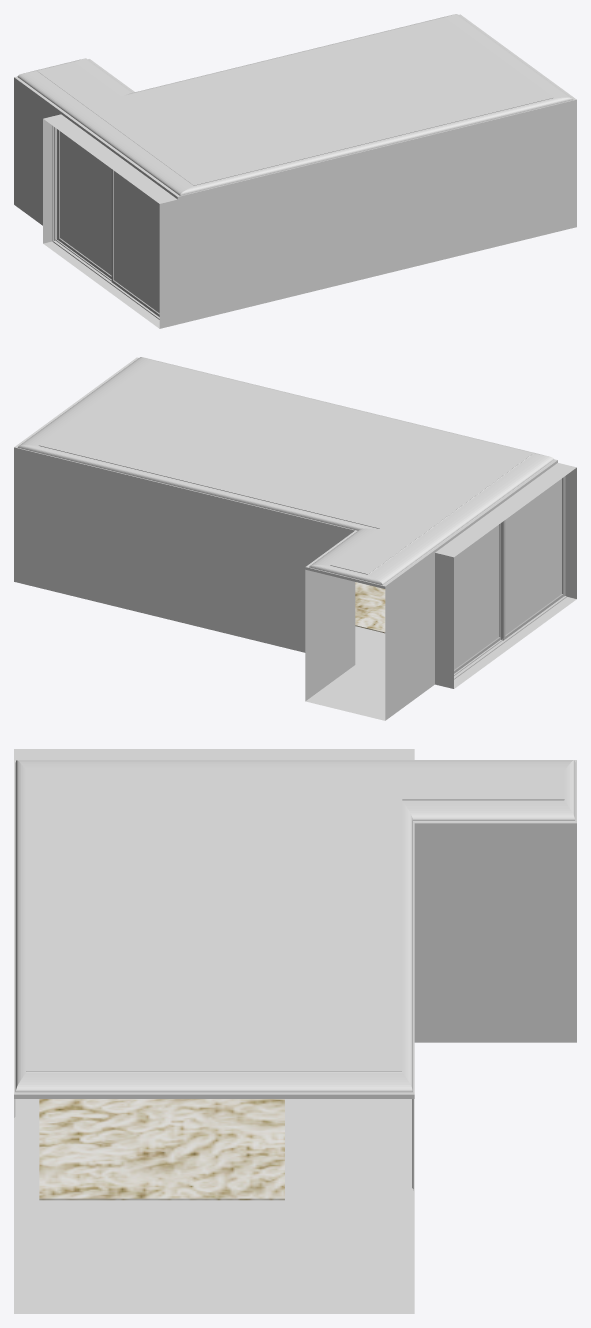
The picture shows the model from 3 angles, top to bottom: view 1: azimuth 30°, elevation 25°; view 2: azimuth 150°, elevation 25°; view 3: azimuth 270°, elevation 25°; orthographic projection. The views are drawn at different scales.
Visible parts, largest first — view 1: Cube, Window.R, Window.L, WindowFrame, Windows_Sill; view 2: Cube, Window.L, Window.R, Plane.006, WindowFrame, Windows_Sill; view 3: Cube, Plane.006.
Boxes of the visible parts, box(x1,y1,x2,y2) form: Cube: box(14, 14, 576, 328); Window.R: box(57, 129, 111, 278); Window.L: box(111, 169, 159, 316); WindowFrame: box(52, 126, 159, 319); Windows_Sill: box(45, 242, 159, 327); Cube: box(14, 357, 576, 720); Window.L: box(501, 477, 564, 640); Window.R: box(454, 523, 500, 673); Plane.006: box(355, 582, 385, 633); WindowFrame: box(454, 475, 566, 679); Windows_Sill: box(454, 622, 532, 688); Cube: box(14, 749, 576, 1313); Plane.006: box(39, 1099, 284, 1200).
Size of the model in its own units: 863 by 261 by 587.
